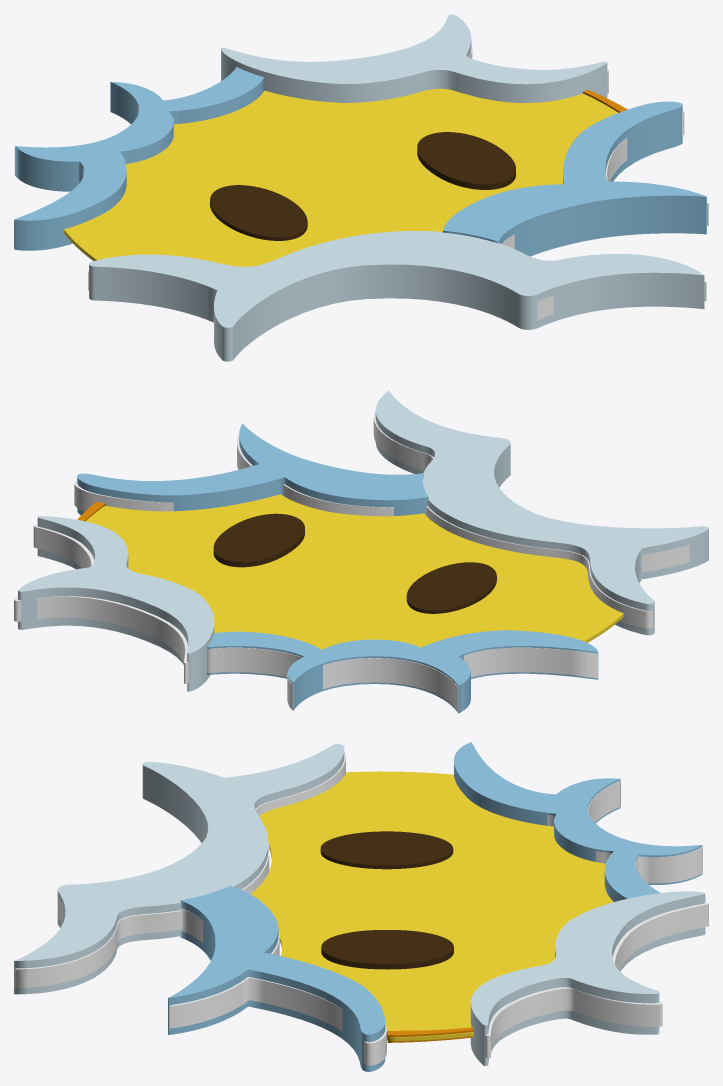
File: emoji_u1f636_200d_1f32b.glb
The picture shows the model from 3 angles, top to bottom: view 1: azimuth 30°, elevation 25°; view 2: azimuth 150°, elevation 25°; view 3: azimuth 270°, elevation 25°; orthographic projection. The views are drawn at different scales.
Visible parts, largest first — view 1: emoji_u1f636_200d_1f32b; view 2: emoji_u1f636_200d_1f32b; view 3: emoji_u1f636_200d_1f32b.
Part boxes in pixels (bbox=[...]): emoji_u1f636_200d_1f32b: bbox=[14, 14, 708, 361]; emoji_u1f636_200d_1f32b: bbox=[14, 390, 708, 713]; emoji_u1f636_200d_1f32b: bbox=[14, 742, 708, 1071].
Bounding box in the file's own units: 0.0344 × 0.0022 × 0.0339.
